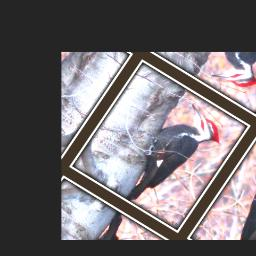Woodpecker: (110, 93, 231, 223)
